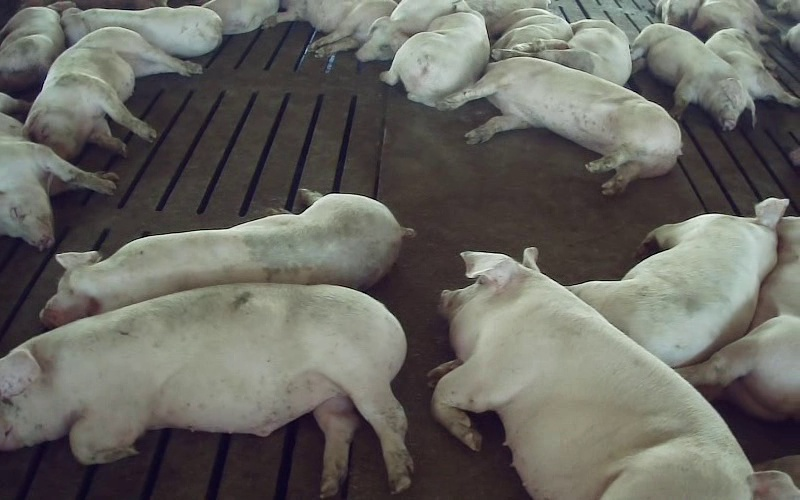pig: (0, 284, 412, 496), (429, 248, 752, 499), (40, 189, 413, 327), (569, 199, 788, 366), (438, 57, 680, 195), (678, 217, 799, 420), (24, 27, 201, 159), (631, 24, 754, 129), (380, 0, 489, 106), (61, 6, 222, 57), (263, 0, 396, 57), (706, 28, 799, 106), (0, 2, 74, 91), (537, 19, 631, 84), (491, 8, 572, 60)
